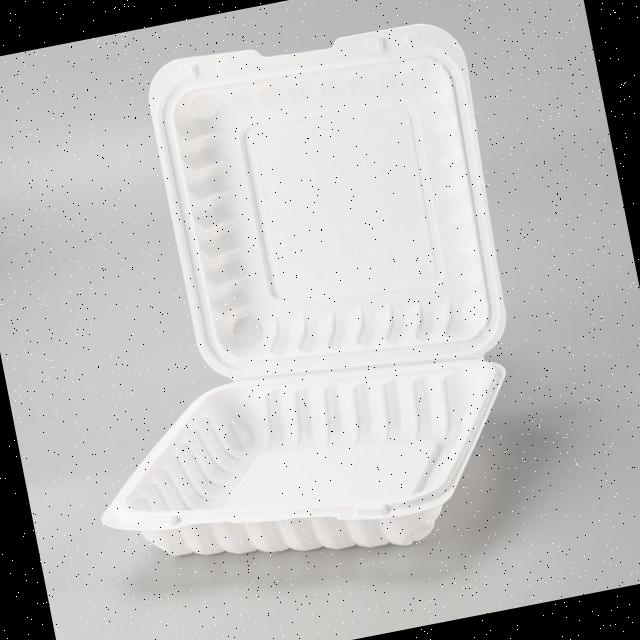styrofoam: (16, 2, 557, 602)
